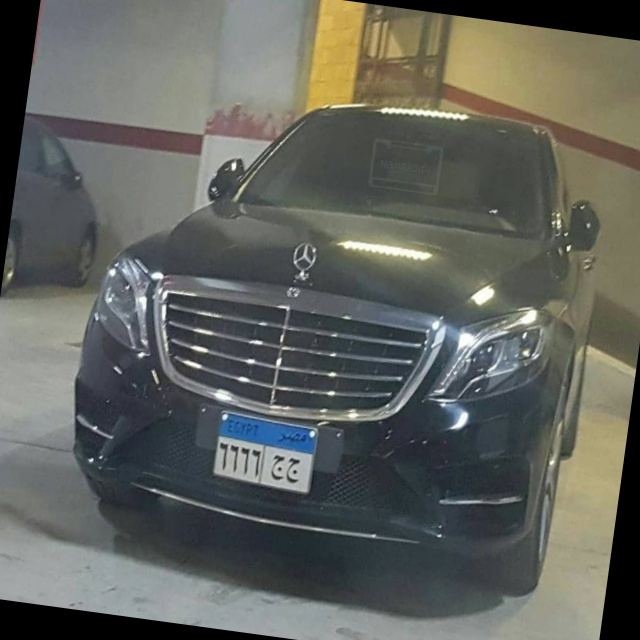License Plate: (209, 407, 322, 497)
